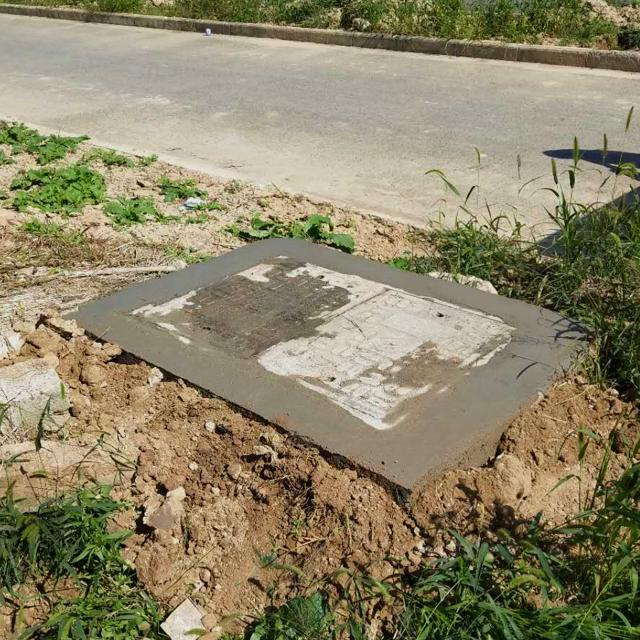good: (117, 251, 525, 439)
